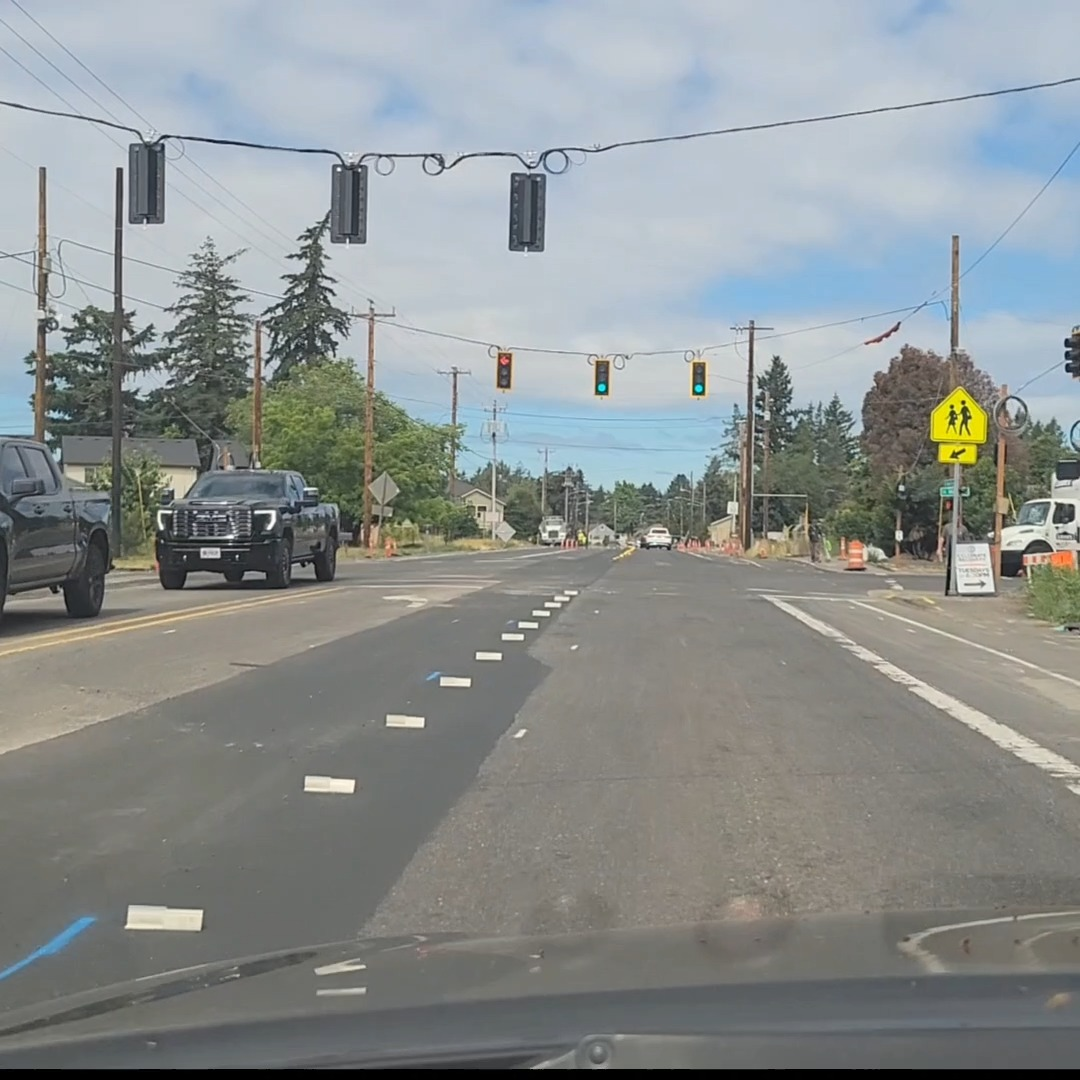car: (153, 468, 339, 589), (0, 434, 111, 626), (640, 526, 673, 550)
delineator: (365, 536, 378, 565), (934, 533, 946, 562), (838, 536, 846, 555)
